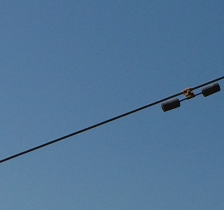damper: (158, 81, 221, 114)
